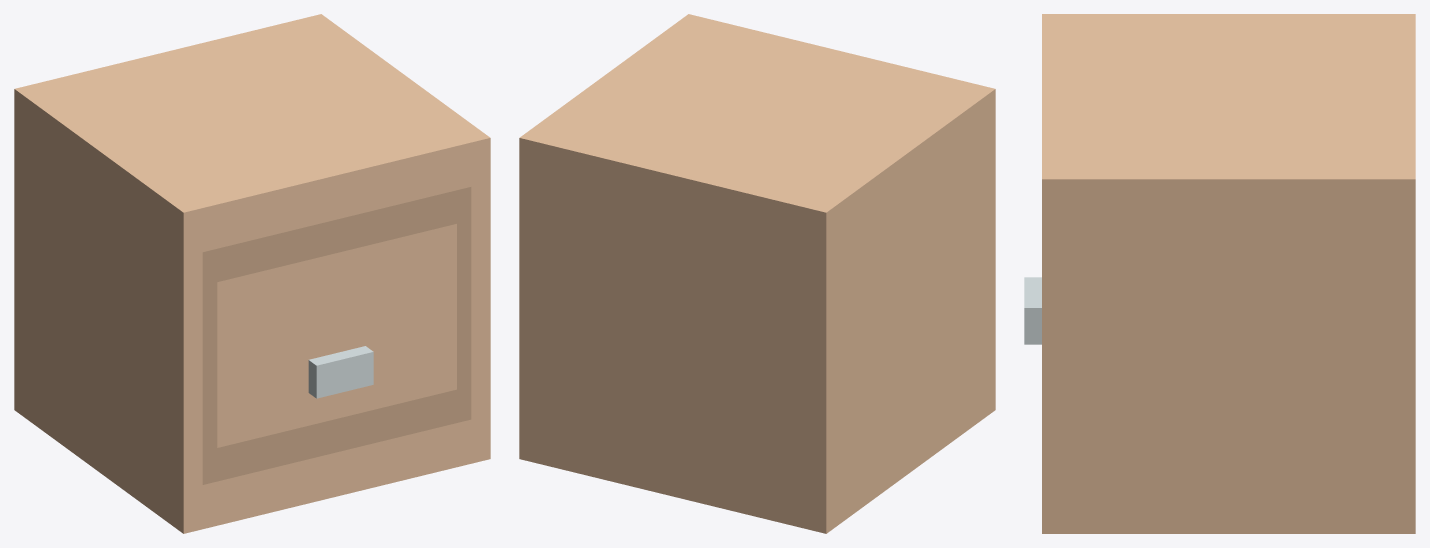
The model's file is kn-kitchen-cabinet-upper-low.glb.
3 renders of one model, left to right at view 1: azimuth 30°, elevation 25°; view 2: azimuth 150°, elevation 25°; view 3: azimuth 270°, elevation 25°, orthographic. The views are drawn at different scales.
Parts seen in each view (by area): view 1: kitchenCabinetUpperLow(Clone), door; view 2: kitchenCabinetUpperLow(Clone); view 3: kitchenCabinetUpperLow(Clone), door.
Boxes of the visible parts, x1,y1,x2,y2 form: kitchenCabinetUpperLow(Clone): (14, 14, 490, 533); door: (202, 187, 471, 484); kitchenCabinetUpperLow(Clone): (519, 14, 995, 533); kitchenCabinetUpperLow(Clone): (1042, 14, 1415, 533); door: (1024, 277, 1041, 344).
Bounding box in the file's own units: 1 × 1 × 1.
